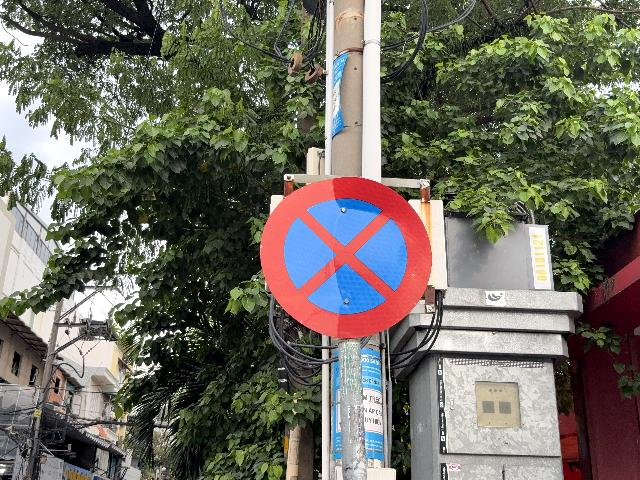cam-dung-va-do-xe: (261, 175, 431, 338)
